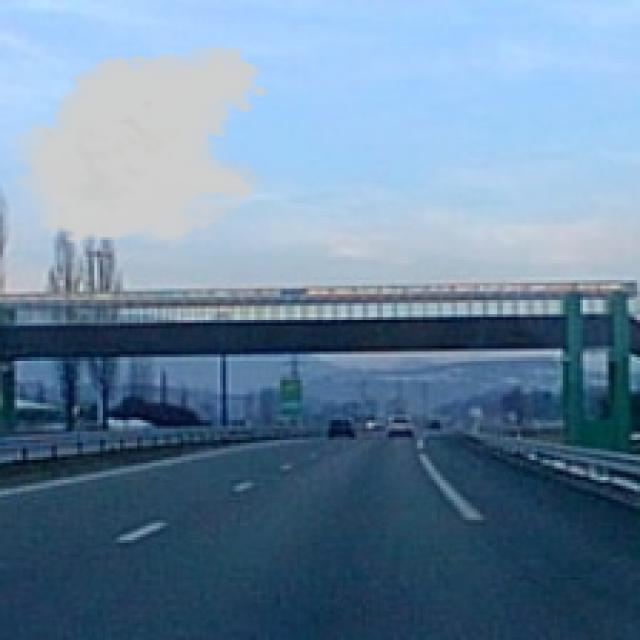smoke: (0, 42, 272, 258)
